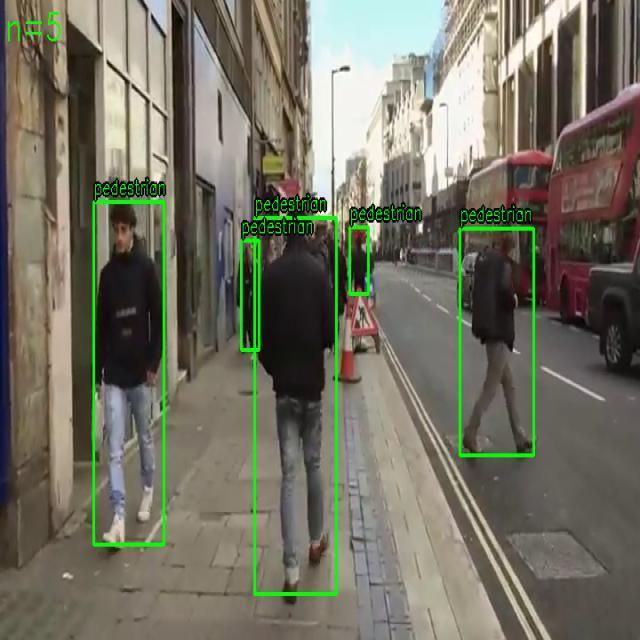person: (254, 217, 337, 595), (94, 202, 164, 546), (460, 228, 534, 456), (240, 240, 260, 351), (349, 227, 369, 294)
